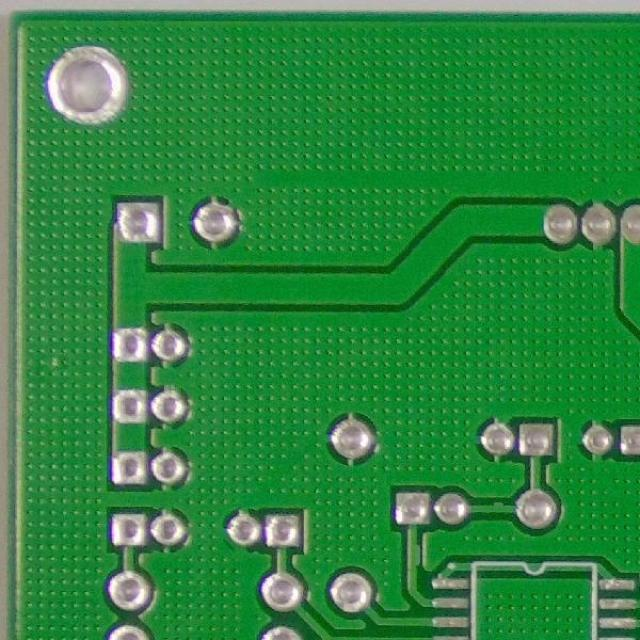spur: (403, 540, 427, 567), (485, 500, 513, 518)
